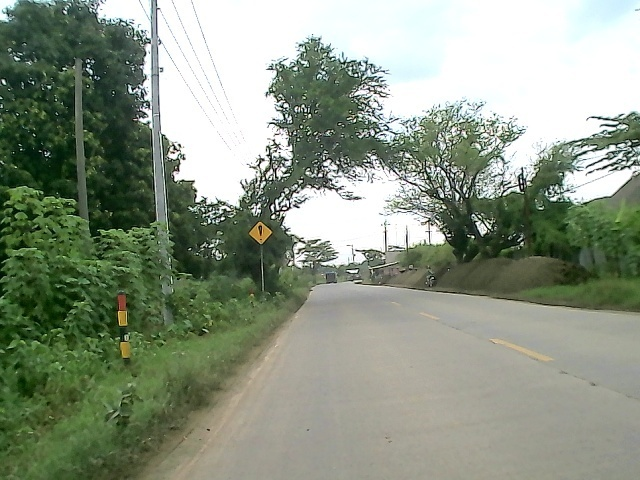Hati-hati: (249, 221, 271, 244)
